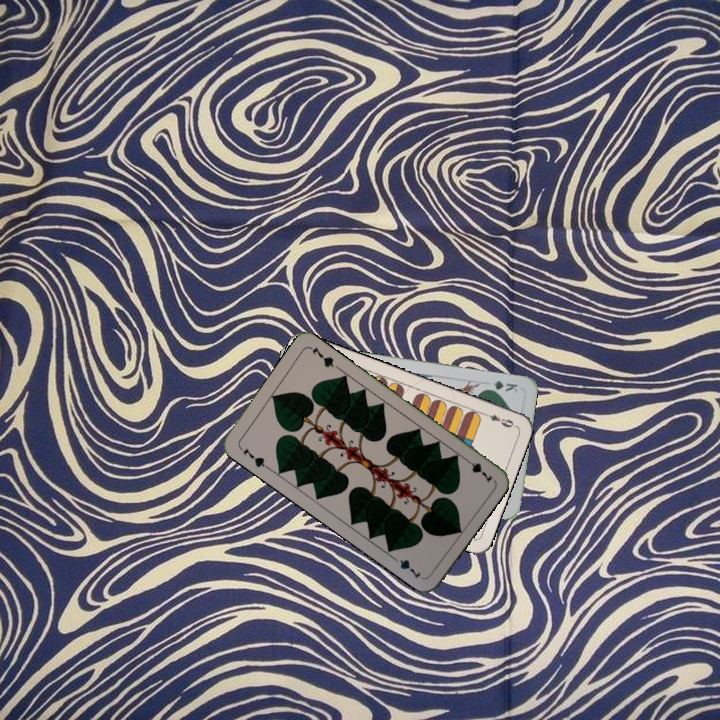E9: (478, 409, 516, 430)
G7: (460, 453, 495, 485), (236, 443, 271, 471)
GK: (481, 377, 520, 395)
